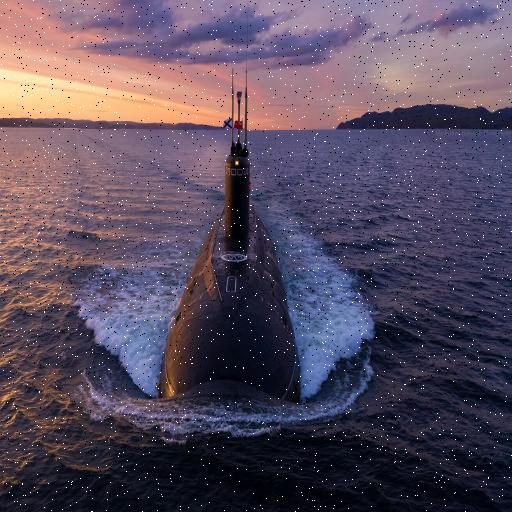submarine: (152, 20, 306, 411)
